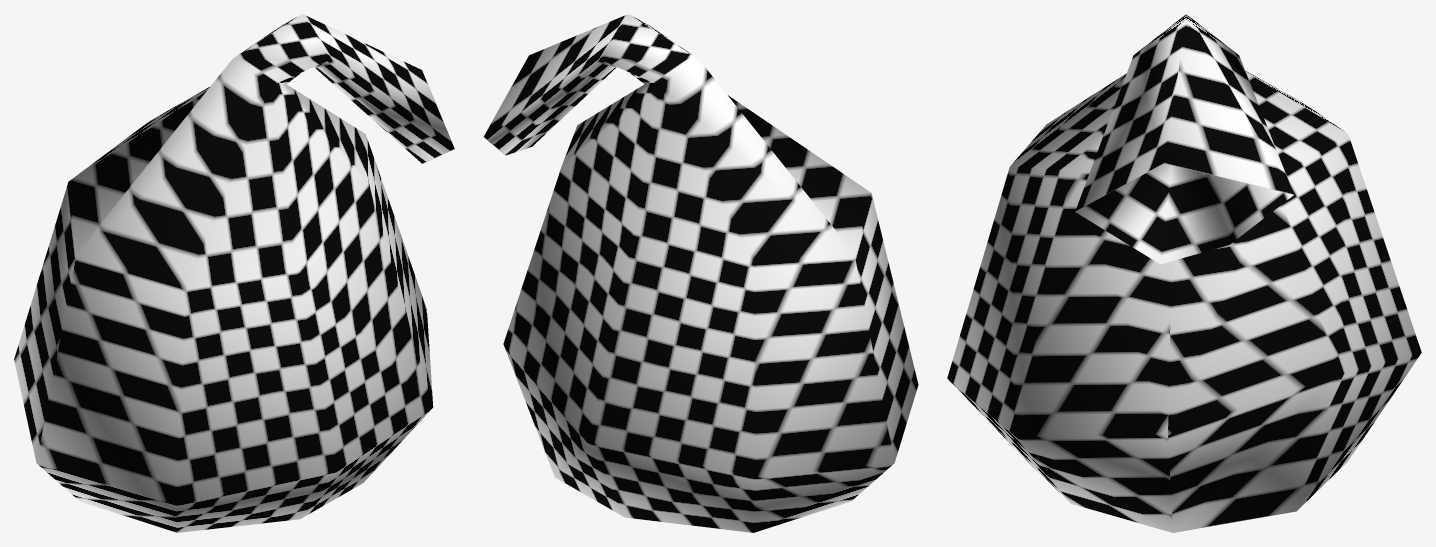
3 views of the same model, side by side, from view 1: azimuth 30°, elevation 25°; view 2: azimuth 150°, elevation 25°; view 3: azimuth 270°, elevation 25° (orthographic). The views are drawn at different scales.
Parts seen in each view (by area): view 1: backpack; view 2: backpack; view 3: backpack.
Part boxes in pixels (box(x1,y1,x2,y2)): backpack: box(14, 14, 454, 532); backpack: box(483, 14, 918, 532); backpack: box(947, 14, 1421, 532).
Size of the model in its own units: 0.5323 by 0.5183 by 0.5789.
1 material, 1 textured.
